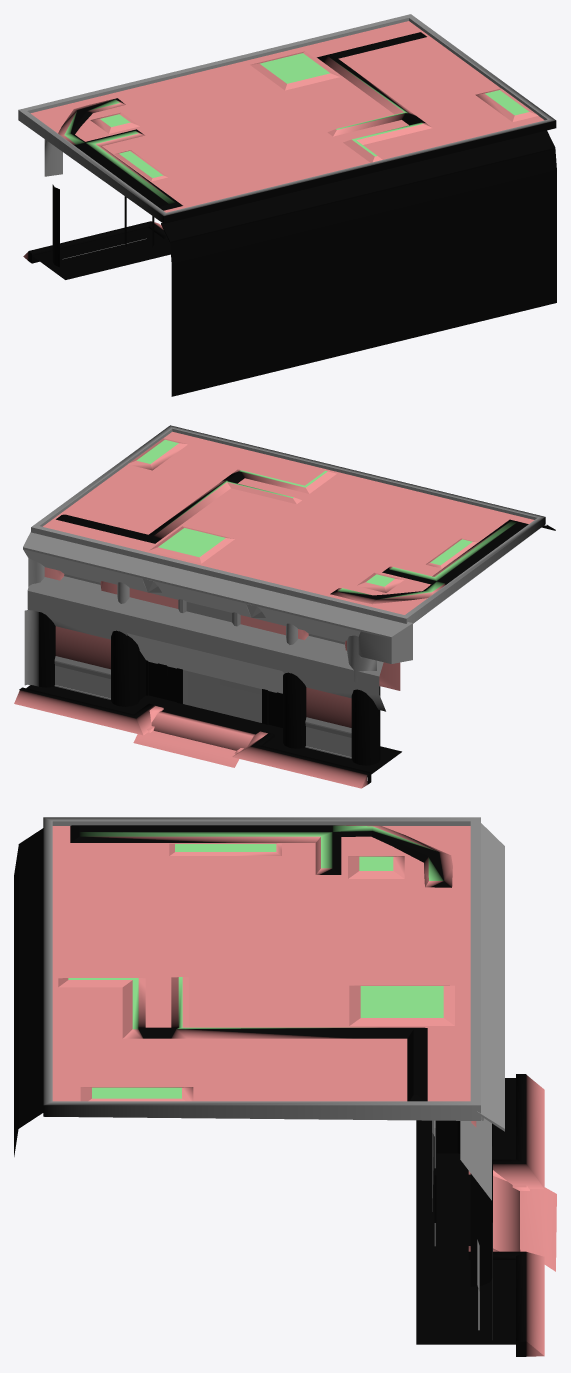
The model's file is COL_SM_ENV_KNVLLG03_AreaA_Building_C.gltf.
3 views of the same model, one above another, from view 1: azimuth 30°, elevation 25°; view 2: azimuth 150°, elevation 25°; view 3: azimuth 270°, elevation 25° (orthographic). The views are drawn at different scales.
Visible parts, largest first — view 1: COL_SM_ENV_KNVLLG03_AreaA_Building_C; view 2: COL_SM_ENV_KNVLLG03_AreaA_Building_C; view 3: COL_SM_ENV_KNVLLG03_AreaA_Building_C.
Part boxes in pixels (x1,y1,x2,y2): COL_SM_ENV_KNVLLG03_AreaA_Building_C: (18,14,556,396); COL_SM_ENV_KNVLLG03_AreaA_Building_C: (14,425,555,788); COL_SM_ENV_KNVLLG03_AreaA_Building_C: (14,817,556,1356).
Bounding box in the file's own units: 31.62 × 13.27 × 24.78.
